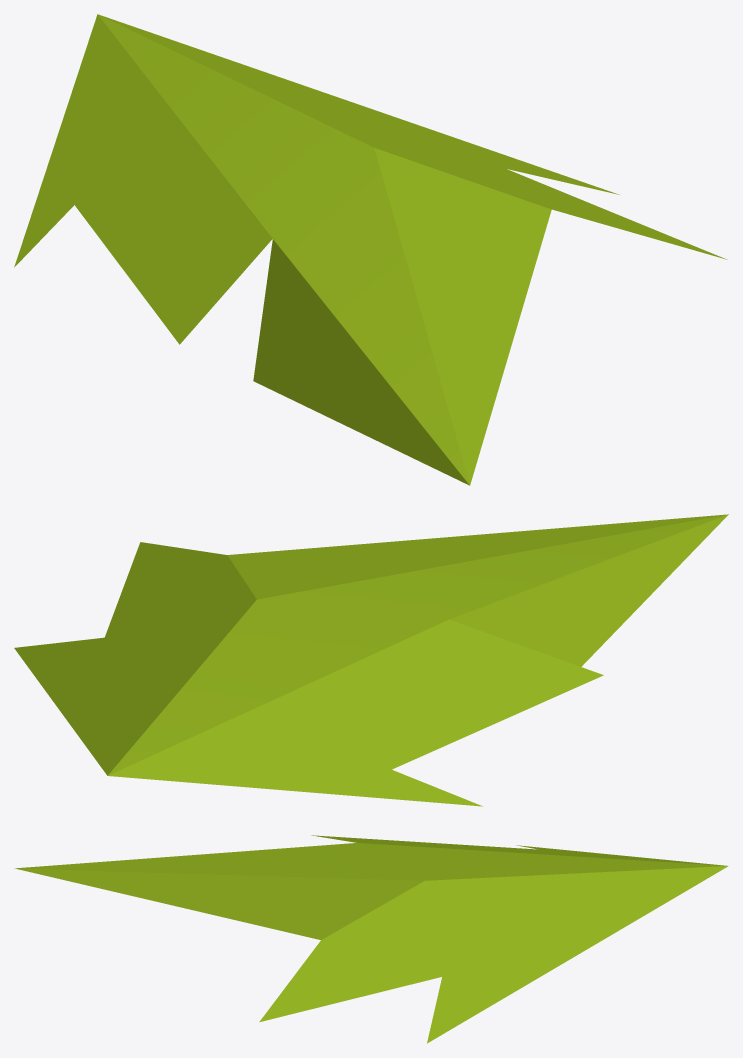
Rendered from Vegetation_Modular_Tree_Foliage_Fir_Leaf_01.fbx.
3 renders of one model, top to bottom at view 1: azimuth 30°, elevation 25°; view 2: azimuth 150°, elevation 25°; view 3: azimuth 270°, elevation 25°, orthographic. The views are drawn at different scales.
Visible parts, largest first — view 1: Vegetation_Modular_Tree_Foliage_Fir_Leaf_01; view 2: Vegetation_Modular_Tree_Foliage_Fir_Leaf_01; view 3: Vegetation_Modular_Tree_Foliage_Fir_Leaf_01.
Boxes of the visible parts, x1,y1,x2,y2 form: Vegetation_Modular_Tree_Foliage_Fir_Leaf_01: [14, 14, 727, 485]; Vegetation_Modular_Tree_Foliage_Fir_Leaf_01: [14, 514, 728, 806]; Vegetation_Modular_Tree_Foliage_Fir_Leaf_01: [14, 835, 728, 1043].
Size of the model in its own units: 52.05 by 10.31 by 83.65.
